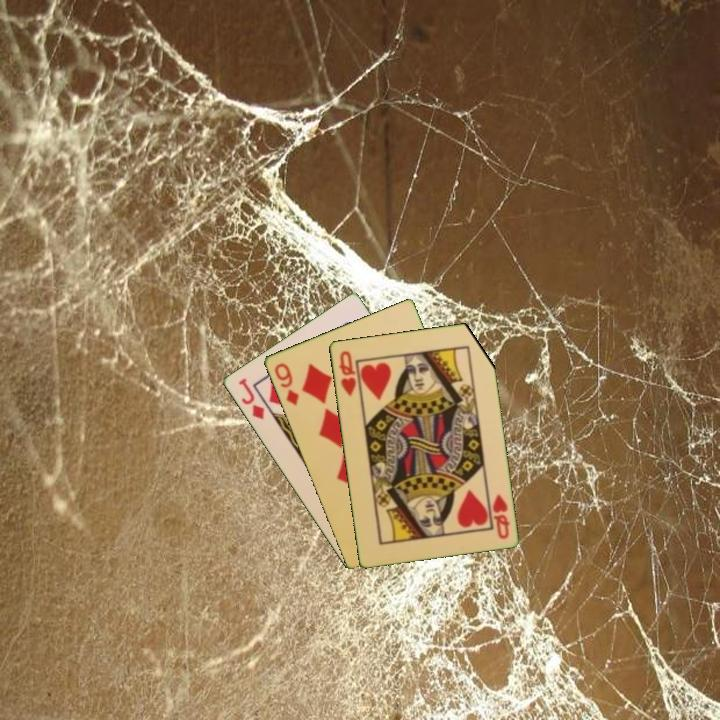9d: (270, 359, 301, 409)
Jd: (234, 374, 267, 422)
Qh: (335, 347, 359, 399), (488, 490, 512, 542)
